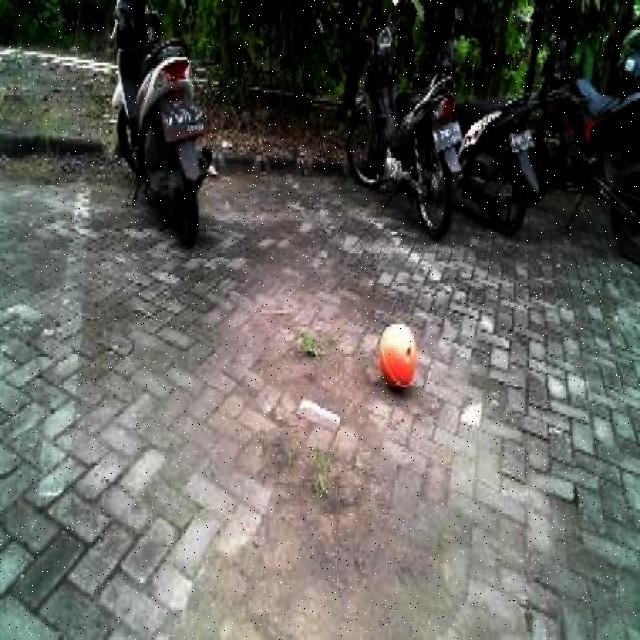buoy: (372, 313, 423, 398)
